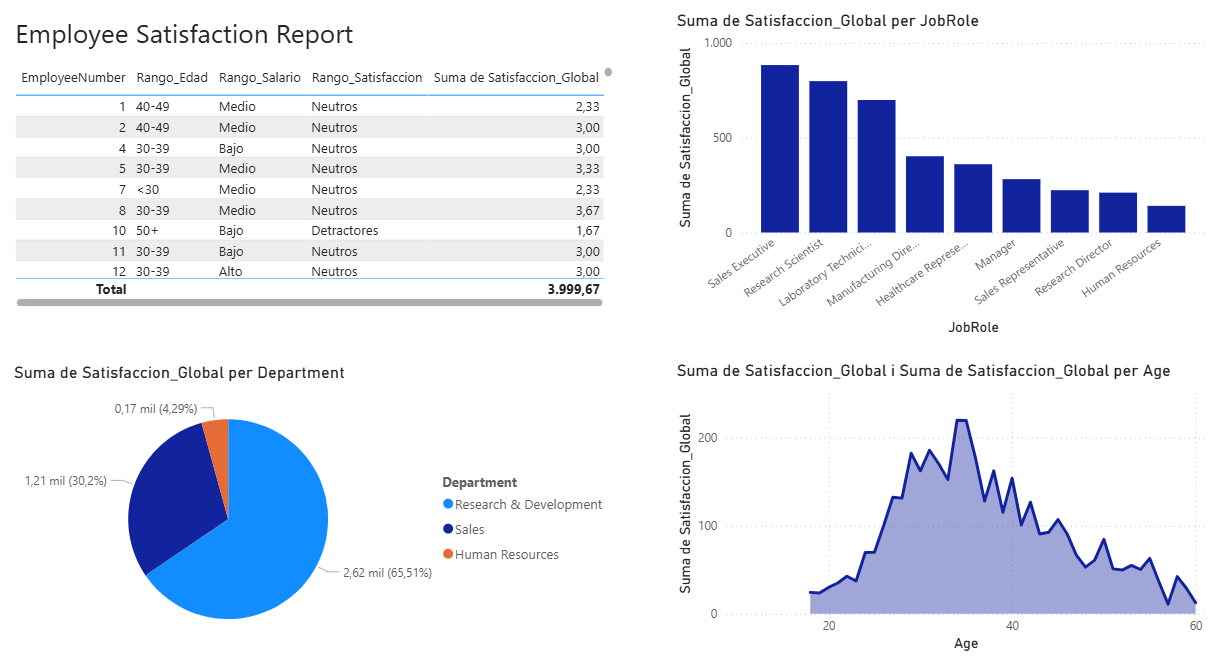

This screenshot's page, from the dashboard's own definition file:
{"tool":"powerbi","page":{"name":"Satisfaccion","canvas":[1280,720],"ordinal":2},"visuals":[{"type":"columnChart","fields":{"Category":["FACT_Empleados.JobRole"],"Y":["Sum(DIM_Satisfaccion.Satisfaccion_Global)"]},"box":[695,24.7,547,335.2],"z":0},{"type":"areaChart","fields":{"Category":["FACT_Empleados.Age"],"Y":["Sum(DIM_Satisfaccion.Satisfaccion_Global)","Sum(DIM_Satisfaccion.Satisfaccion_Global)"]},"box":[695,381.6,547,300.3],"z":1000},{"type":"textbox","box":[23.2,24.7,489,66.7],"z":2000},{"type":"tableEx","fields":{"Values":["DIM_Genero.EmployeeNumber","DIM_Satisfaccion.Rango_Edad","DIM_Satisfaccion.Rango_Salario","DIM_Satisfaccion.Rango_Satisfaccion","Sum(DIM_Satisfaccion.Satisfaccion_Global)"]},"box":[23.2,78.4,616.7,253.9],"z":3000},{"type":"pieChart","fields":{"Category":["FACT_Empleados.Department"],"Y":["Sum(DIM_Satisfaccion.Satisfaccion_Global)"]},"box":[23,382,617,300],"z":4000}]}

Visuals, with their boxes on the page's 1280x720 design canvas (x1, y1, x2, y2). These are canvas units, not pixel positions in the 1223x667 screenshot, which may show the page scaled, cropped or inside an application window:
columnChart - FACT_Empleados.JobRole x Sum(DIM_Satisfaccion.Satisfaccion_Global): 695/25/1242/360
areaChart - FACT_Empleados.Age x Sum(DIM_Satisfaccion.Satisfaccion_Global): 695/382/1242/682
textbox: 23/25/512/91
tableEx - DIM_Genero.EmployeeNumber x DIM_Satisfaccion.Rango_Edad: 23/78/640/332
pieChart - FACT_Empleados.Department x Sum(DIM_Satisfaccion.Satisfaccion_Global): 23/382/640/682
